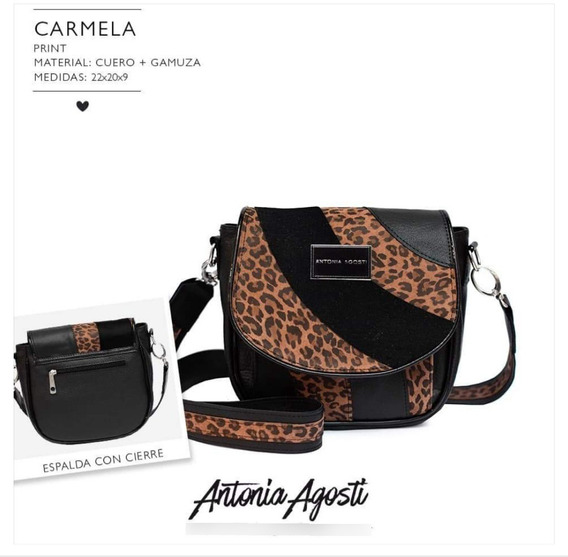cartera: (208, 202, 520, 432), (13, 318, 170, 444)
